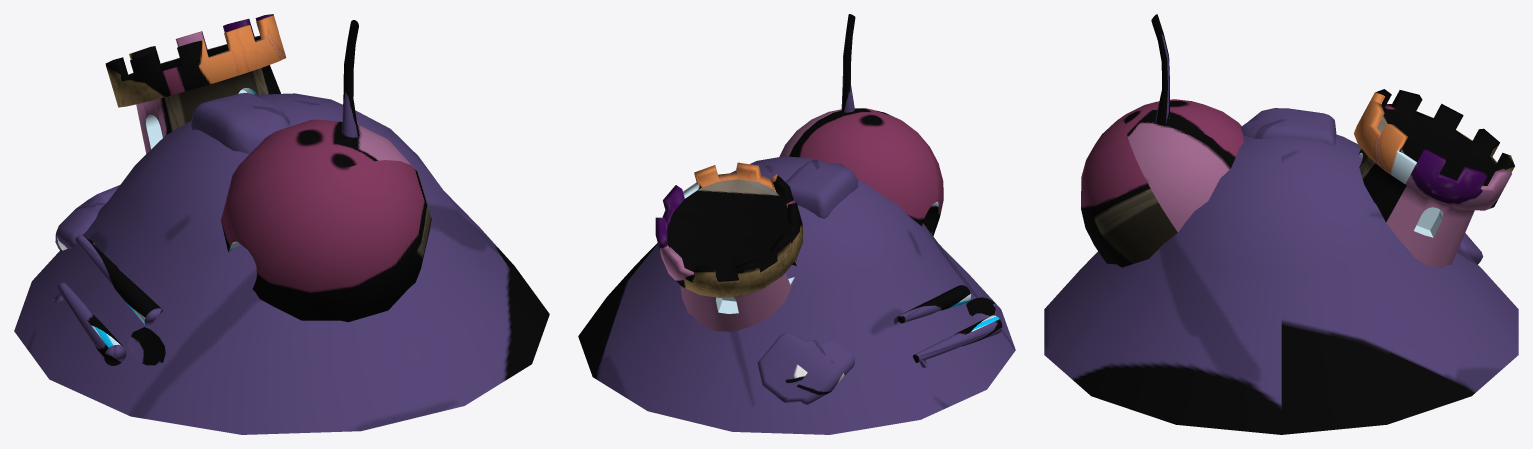
File: CastilloDerrumbado_4.fbx
The picture shows the model from 3 angles, left to right: view 1: azimuth 30°, elevation 25°; view 2: azimuth 150°, elevation 25°; view 3: azimuth 270°, elevation 25°; orthographic projection. The views are drawn at different scales.
Visible parts, largest first — view 1: Leaf3; view 2: Leaf3; view 3: Leaf3.
Boxes of the visible parts, box(x1,y1,x2,y2) form: Leaf3: box(14, 14, 549, 434); Leaf3: box(578, 14, 1015, 434); Leaf3: box(1044, 14, 1518, 434).
Size of the model in its own units: 163 by 118 by 159.
